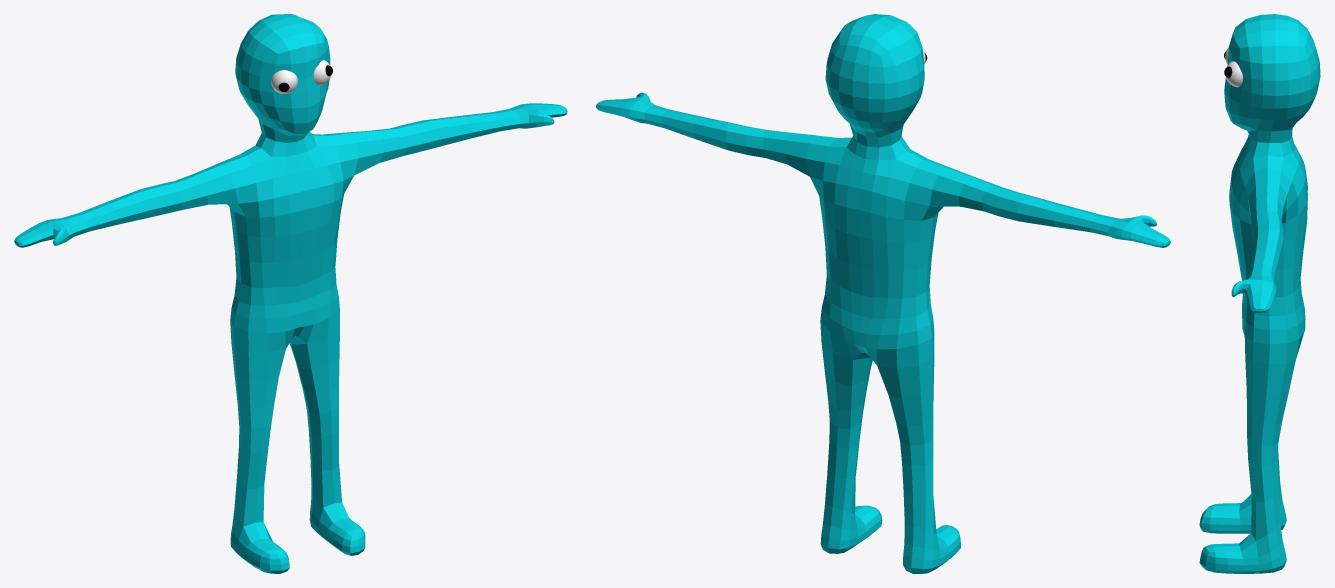
Rendered from Character v1.fbx.
The picture shows the model from 3 angles, left to right: view 1: azimuth 30°, elevation 25°; view 2: azimuth 150°, elevation 25°; view 3: azimuth 270°, elevation 25°; orthographic projection. The views are drawn at different scales.
Visible parts, largest first — view 1: Character; view 2: Character; view 3: Character.
Boxes of the visible parts, left/top/right/bottom form: Character: left=14, top=14, right=567, bottom=573; Character: left=596, top=14, right=1170, bottom=573; Character: left=1199, top=14, right=1320, bottom=573.
Size of the model in its own units: 613 by 557 by 115.
